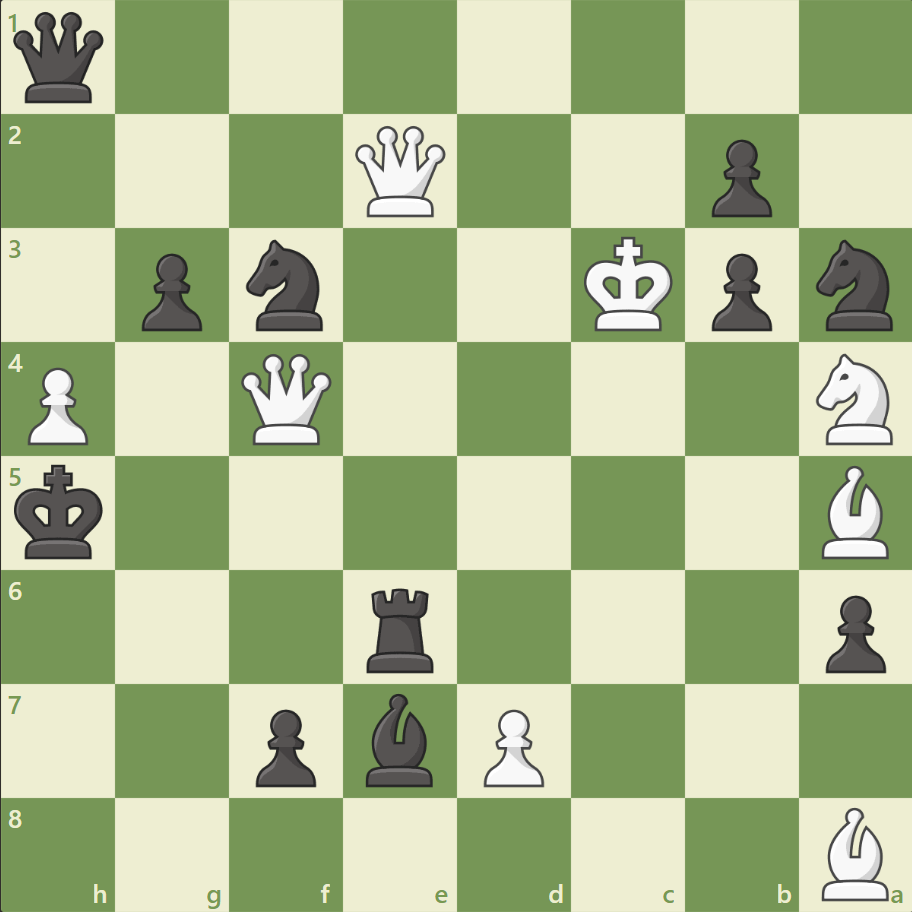B: (812, 801, 896, 904), (812, 460, 896, 563)
K: (579, 231, 679, 339)
N: (806, 348, 903, 450)
P: (474, 700, 549, 791), (20, 359, 95, 450)
Q: (237, 349, 336, 449), (351, 122, 450, 222)
b: (358, 687, 442, 790)
k: (11, 458, 111, 566)
n: (806, 234, 903, 337), (238, 234, 335, 337)
p: (247, 700, 322, 791), (701, 246, 776, 337), (133, 246, 208, 337), (701, 132, 776, 223), (815, 586, 889, 677)
q: (10, 9, 109, 108)
r: (360, 579, 442, 676)
